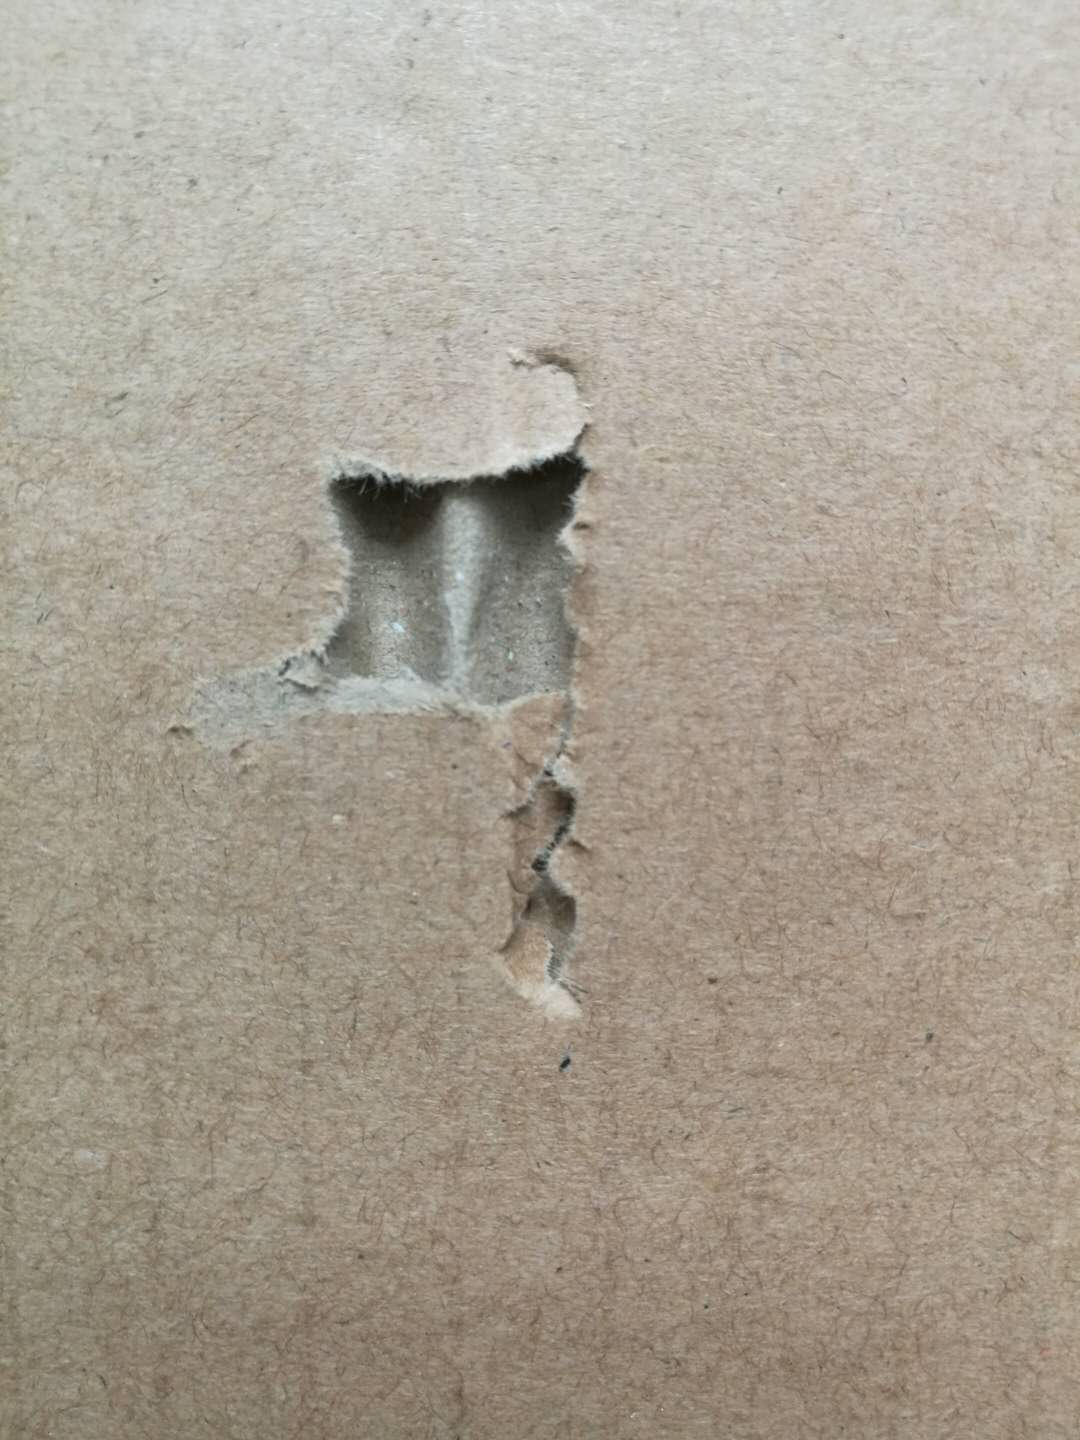defect: (130, 315, 672, 1044)
